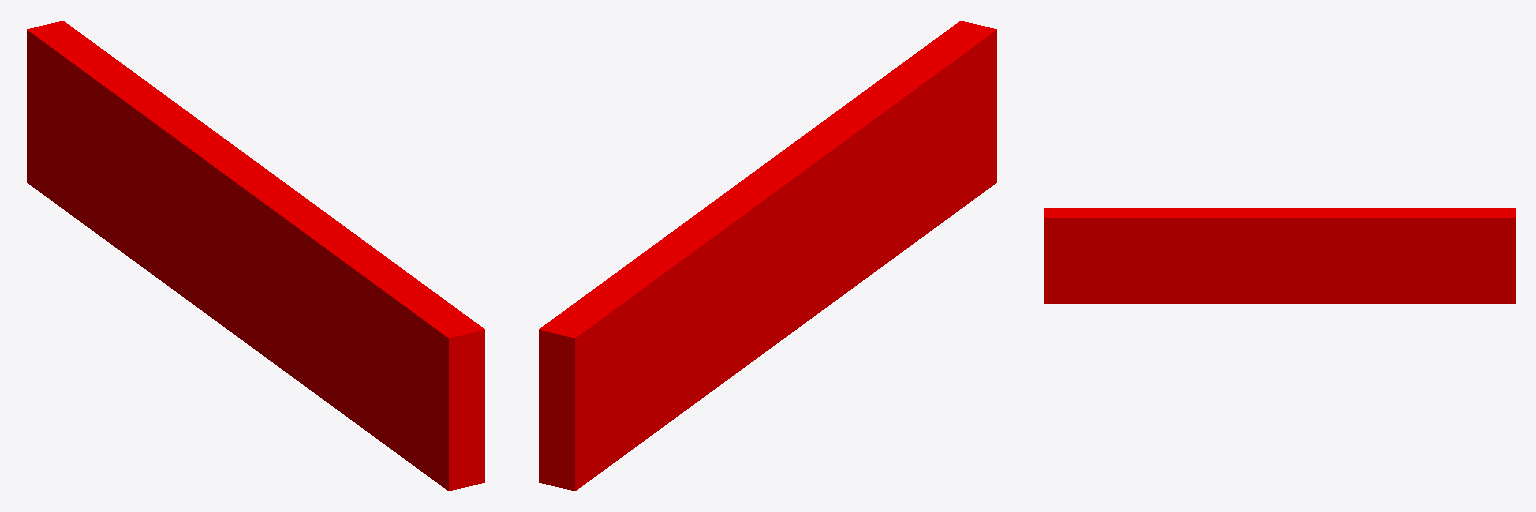
The robot description file, URDF, robot "ball":
<?xml version="0.0" ?>
<robot name="ball">
    <link name="wall">
        <contact>
            <lateral_friction value="1"/>
        </contact>

        <inertial>
            <origin xyz="0 0 0" rpy="0 0 0"/>
            <mass value="0.0"/>
            <inertia ixx="0"  ixy="0"  ixz="0" iyy="0" iyz="0" izz="0" />
        </inertial>

        <visual>
            <origin xyz="0 0 0" rpy="0 0 0" />
            <geometry>
                <box size="0.1 2.0 0.4" />
            </geometry>
            <material name="Red">
                <color rgba="1.0 0.0 0.0 1.0"/>
            </material>
        </visual>

        <collision>
            <origin xyz="0 0 0" rpy="0 0 0"/>
            <geometry>
                <box size="0.1 2.0 0.4" />
            </geometry>
        </collision>
    </link>
</robot>

--- What the picture shows (computed from the rendered views, not written in the file) ---
The picture shows the robot from 3 angles, left to right: view 1: azimuth 30°, elevation 25°; view 2: azimuth 150°, elevation 25°; view 3: azimuth 270°, elevation 25°; orthographic projection.
Model ball with 1 links and 0 joints (none), rooted at wall, posed all joints at 0.
Visible links, largest first — view 1: wall; view 2: wall; view 3: wall.
Link boxes in pixels (x1,y1,x2,y2): wall: (27,21,484,490); wall: (539,21,996,490); wall: (1044,208,1515,303).
Bounding box of the posed robot: 0.1 × 2 × 0.4 m (x, y, z).
Geometry: primitives only (box / cylinder / sphere), no mesh files.